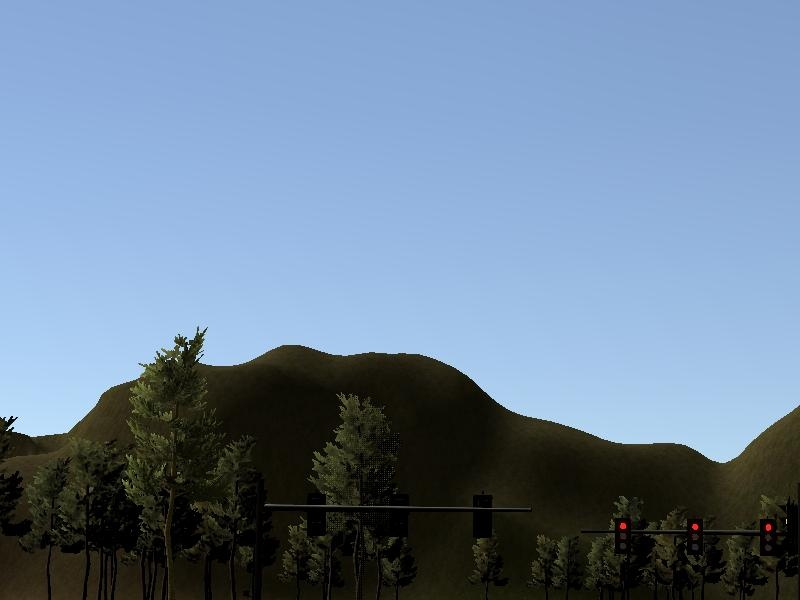RED: (603, 509, 639, 566), (679, 508, 710, 565), (752, 514, 782, 561)
